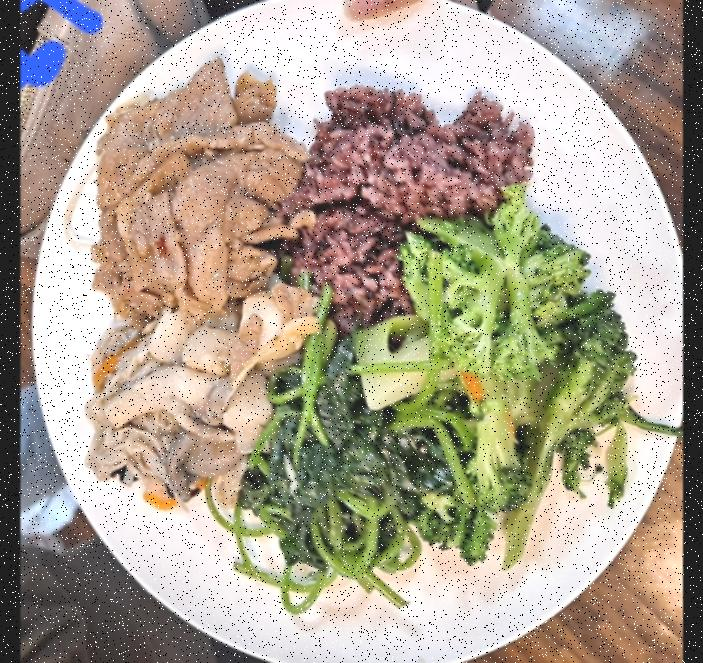big fried chicken leg: (31, 0, 683, 663)
braised fish: (290, 87, 538, 320)
braised fish fillet: (395, 213, 643, 565), (241, 338, 462, 612), (79, 290, 305, 514)
braised pork: (88, 66, 313, 316)
